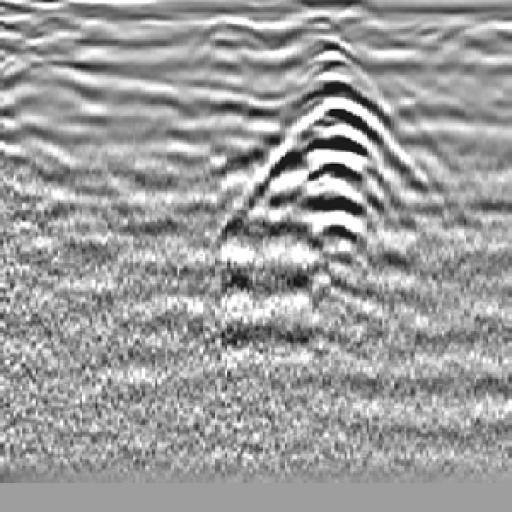metalic: (242, 52, 425, 318)
